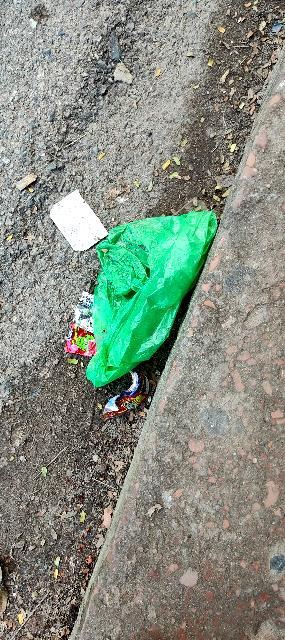polythene: (90, 216, 223, 384)
